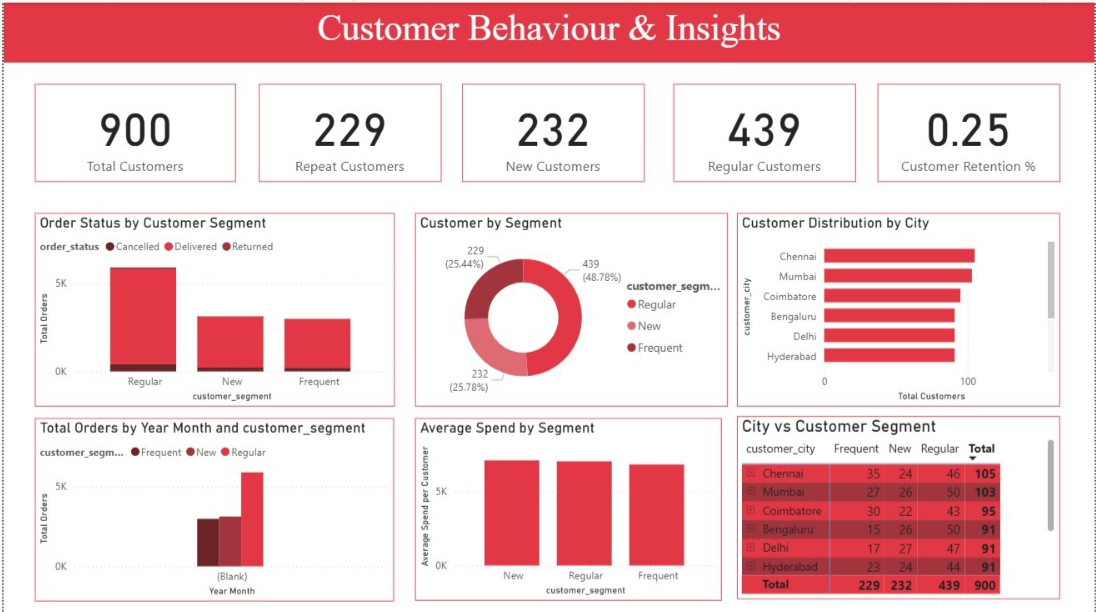

The page's visual inventory and layout, read from the dashboard file:
{"tool":"powerbi","page":{"name":"Customer Behaviour & Insights","canvas":[1280,720],"ordinal":2},"visuals":[{"type":"donutChart","title":"Customer by Segment","fields":{"Category":["zomato_analytics customers.customer_segment"],"Y":["zomato_analytics customers.Total Customers"]},"box":[483.1,246.8,367.5,227.3],"z":0},{"type":"clusteredBarChart","title":"Customer Distribution by City","fields":{"Category":["zomato_analytics customers.customer_city"],"Y":["zomato_analytics customers.Total Customers"]},"box":[861,246.8,379.2,227.3],"z":1000},{"type":"clusteredColumnChart","title":"Average Spend by Segment","fields":{"Category":["zomato_analytics customers.customer_segment"],"Y":["zomato_analytics customers.Average Spend per Customer"]},"box":[483.1,488.3,359.7,214.3],"z":2000},{"type":"columnChart","title":"Order Status by Customer Segment","fields":{"Category":["zomato_analytics customers.customer_segment"],"Y":["zomato_analytics orders.Total Orders"],"Series":["zomato_analytics orders.order_status"]},"box":[36.4,246.8,422.1,227.3],"z":3000},{"type":"card","fields":{"Values":["zomato_analytics customers.Customer Retention %"]},"box":[1026,94.8,214.3,115.6],"z":4000},{"type":"card","fields":{"Values":["zomato_analytics customers.Total Customers"]},"box":[36.4,94.8,236.4,115.6],"z":5000},{"type":"pivotTable","title":"City vs Customer Segment","fields":{"Rows":["zomato_analytics customers.customer_city","zomato_analytics customers.customer_id"],"Columns":["zomato_analytics customers.customer_segment"],"Values":["zomato_analytics customers.Total Customers"]},"box":[861.4,485.9,379.1,215.4],"z":6000},{"type":"textbox","box":[0,0,1280.5,70.1],"z":7000},{"type":"card","fields":{"Values":["zomato_analytics customers.New Customers"]},"box":[537.7,94.8,214.3,115.6],"z":8000},{"type":"card","fields":{"Values":["zomato_analytics customers.Repeat Customers"]},"box":[300,94.8,214.3,115.6],"z":9000},{"type":"card","fields":{"Values":["zomato_analytics customers.Regular Customers"]},"box":[785.7,94.8,214.3,115.6],"z":10000},{"type":"clusteredColumnChart","fields":{"Category":["DimDate.Year Month"],"Y":["zomato_analytics orders.Total Orders"],"Series":["zomato_analytics customers.customer_segment"]},"box":[36.7,487.9,421.9,215.2],"z":11000}]}

Visuals, with their boxes in screenshot pixels (x1, y1, x2, y2), scaled from the page's 1280x720 canvas onto the 1096x612 screenshot:
"Customer by Segment" donutChart: box=[414, 210, 728, 403]
"Customer Distribution by City" clusteredBarChart: box=[737, 210, 1062, 403]
"Average Spend by Segment" clusteredColumnChart: box=[414, 415, 722, 597]
"Order Status by Customer Segment" columnChart: box=[31, 210, 393, 403]
card - zomato_analytics customers.Customer Retention %: box=[879, 81, 1062, 179]
card - zomato_analytics customers.Total Customers: box=[31, 81, 234, 179]
"City vs Customer Segment" pivotTable: box=[738, 413, 1062, 596]
textbox: box=[0, 0, 1095, 60]
card - zomato_analytics customers.New Customers: box=[460, 81, 644, 179]
card - zomato_analytics customers.Repeat Customers: box=[257, 81, 440, 179]
card - zomato_analytics customers.Regular Customers: box=[673, 81, 856, 179]
clusteredColumnChart - DimDate.Year Month x zomato_analytics orders.Total Orders: box=[31, 415, 393, 598]
